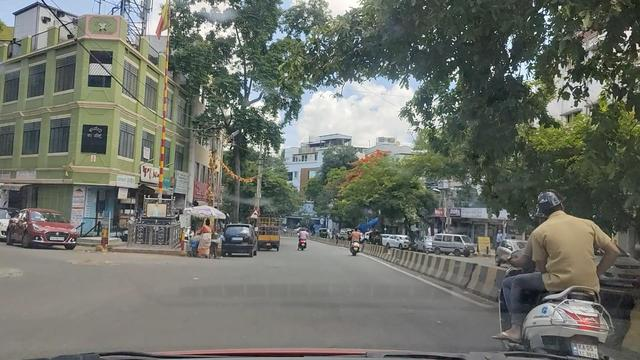LMV: (534, 179, 620, 360), (228, 222, 257, 258)
